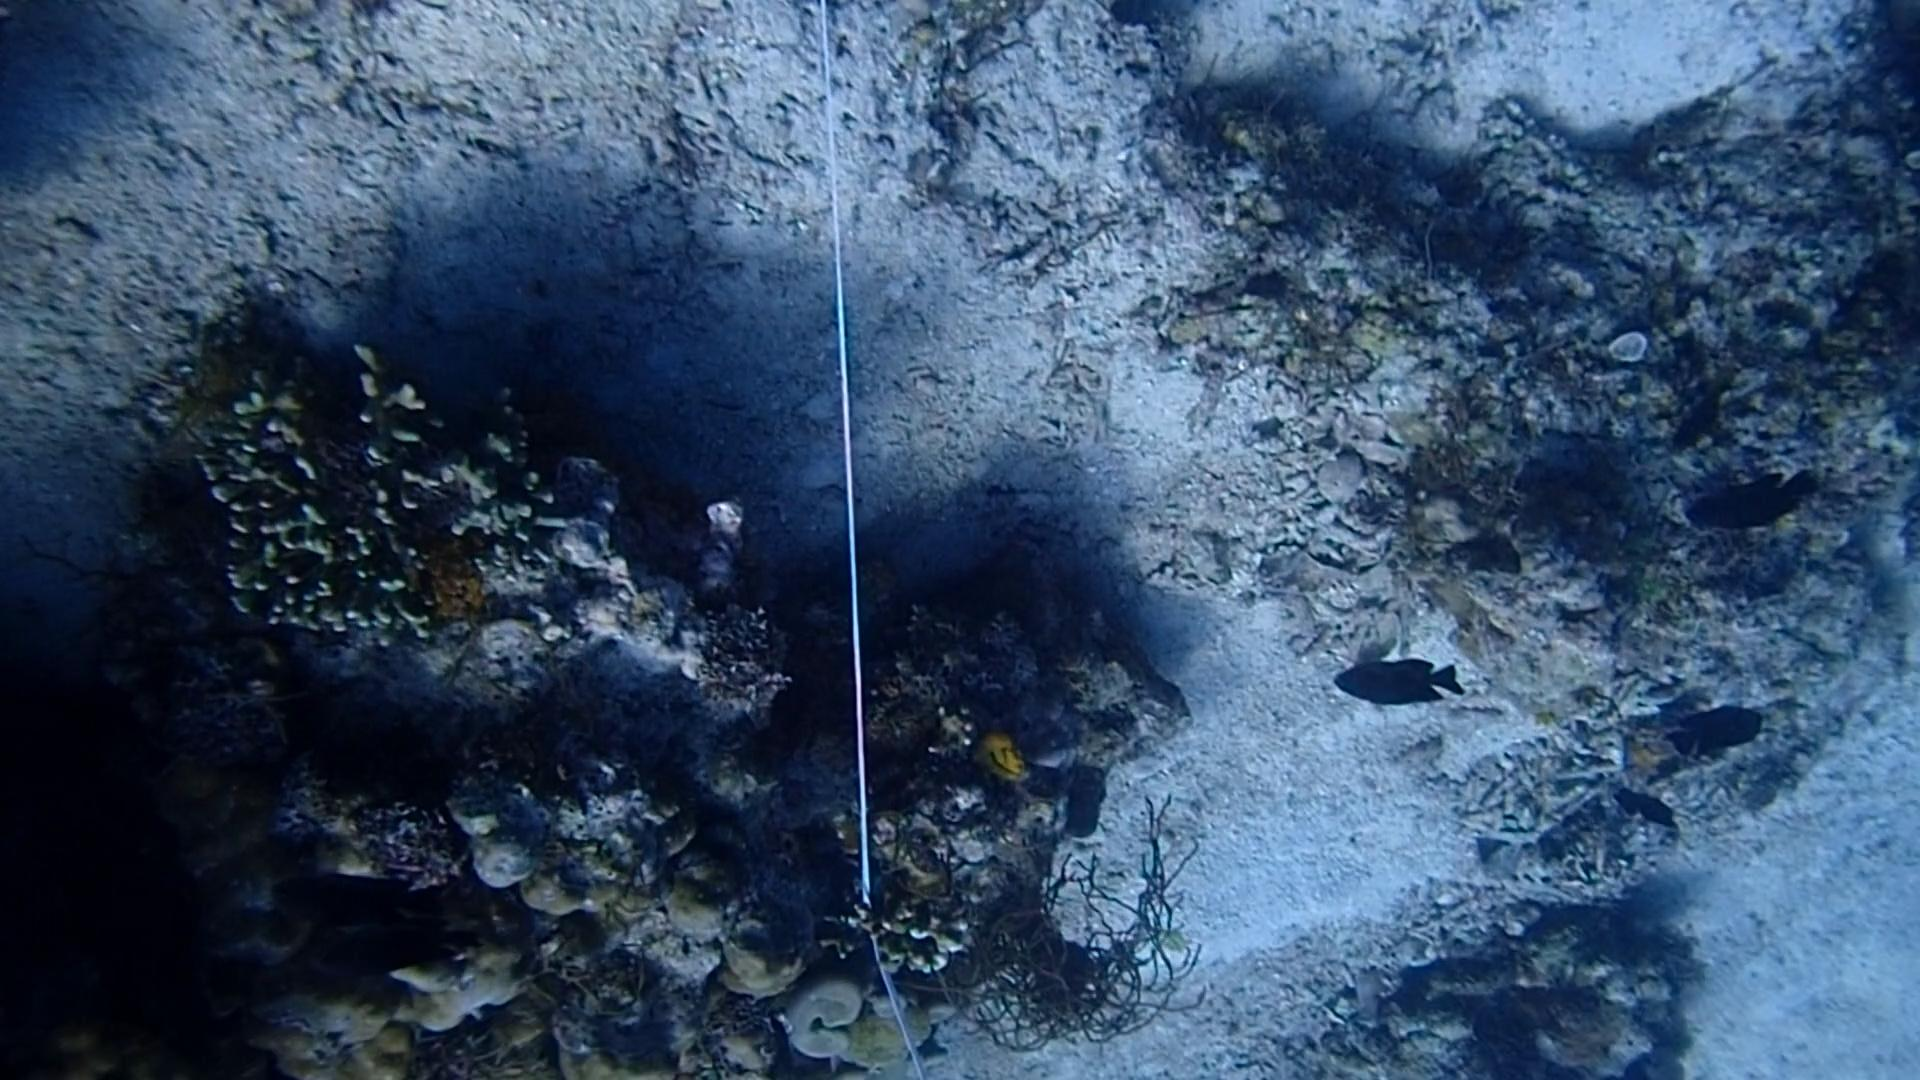Dark Fish: (1675, 462, 1812, 556), (1317, 645, 1457, 723), (1656, 696, 1774, 779), (1650, 367, 1745, 463), (1604, 782, 1683, 844)
